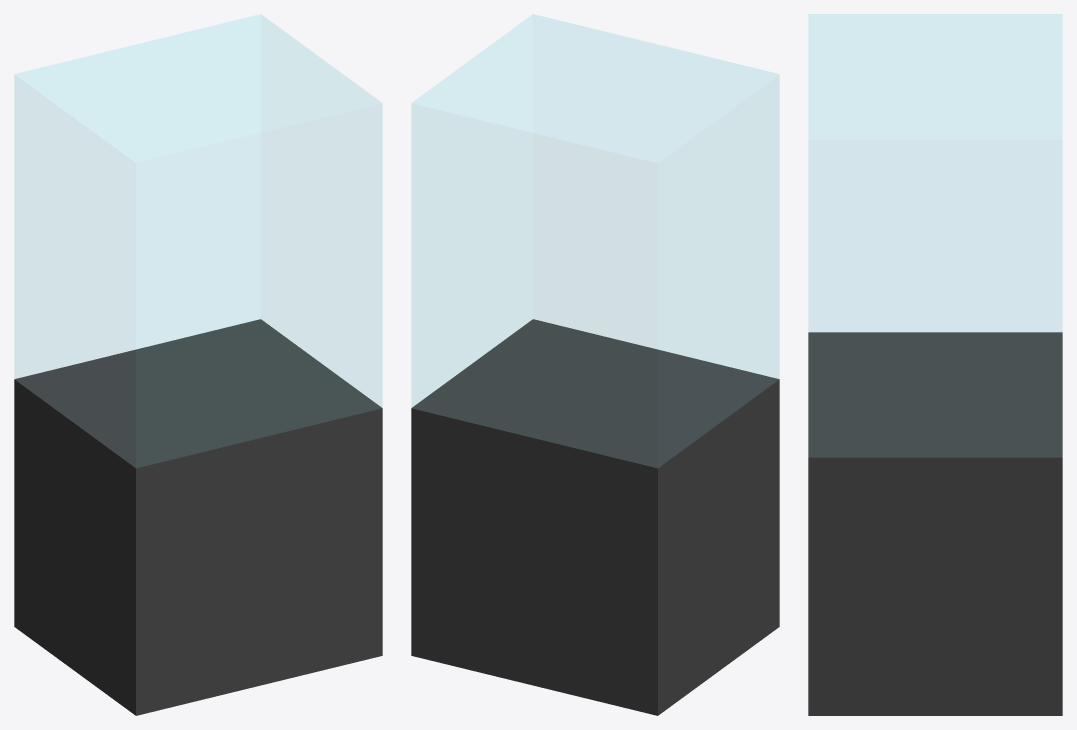
Rendered from tiny_box.glb.
The picture shows the model from 3 angles, left to right: view 1: azimuth 30°, elevation 25°; view 2: azimuth 150°, elevation 25°; view 3: azimuth 270°, elevation 25°; orthographic projection. The views are drawn at different scales.
Visible parts, largest first — view 1: Cube.004; view 2: Cube.004; view 3: Cube.004.
Boxes of the visible parts, box(x1,y1,x2,y2) form: Cube.004: box(14, 15, 382, 715); Cube.004: box(411, 15, 779, 715); Cube.004: box(808, 14, 1062, 715).
Bounding box in the file's own units: 0.3562 × 0.7626 × 0.3048.
